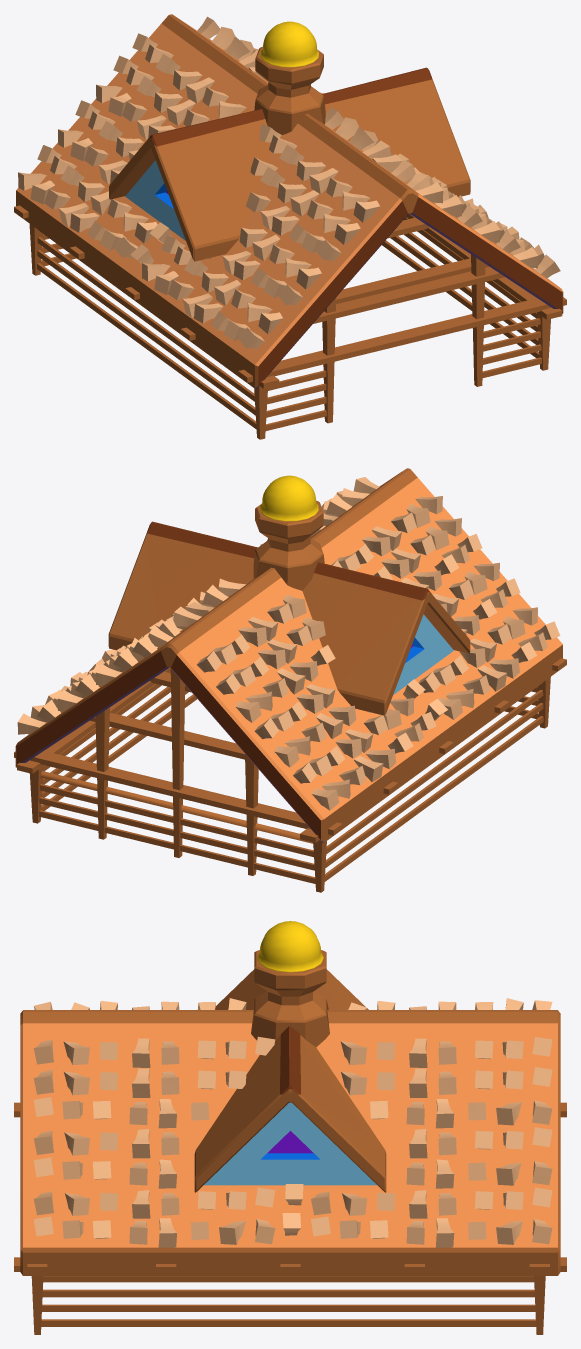
File: Barn 1.fbx
3 renders of one model, top to bottom at view 1: azimuth 30°, elevation 25°; view 2: azimuth 150°, elevation 25°; view 3: azimuth 270°, elevation 25°, orthographic. The views are drawn at different scales.
Parts seen in each view (by area): view 1: Barn_LOD0; view 2: Barn_LOD0; view 3: Barn_LOD0.
Part boxes in pixels (x1,y1,x2,y2): Barn_LOD0: (14,14,566,439); Barn_LOD0: (14,468,566,892); Barn_LOD0: (14,921,566,1334).
Size of what is drawn, in the model's own units: 2684 by 2377 by 3585.
